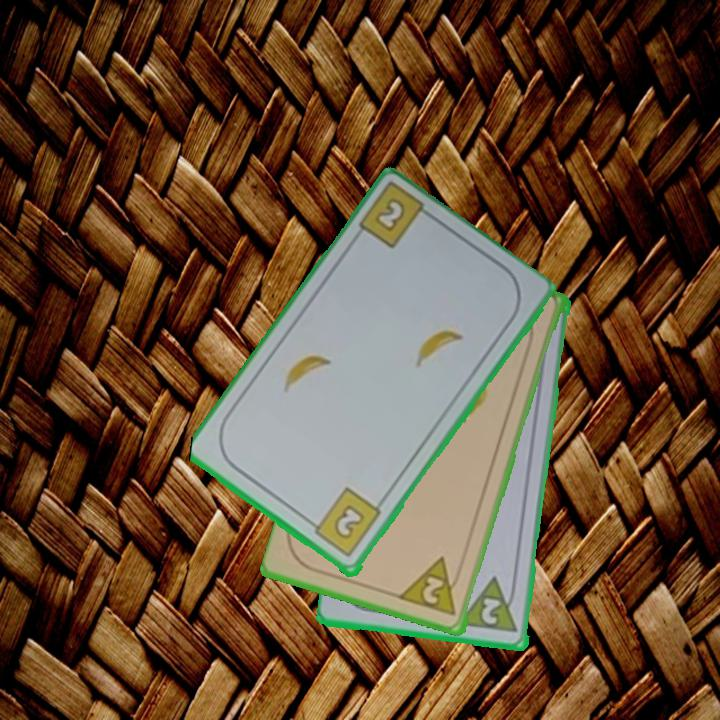2b: (304, 485, 385, 561), (371, 194, 409, 236)
2p: (398, 554, 464, 620), (457, 573, 521, 636)
